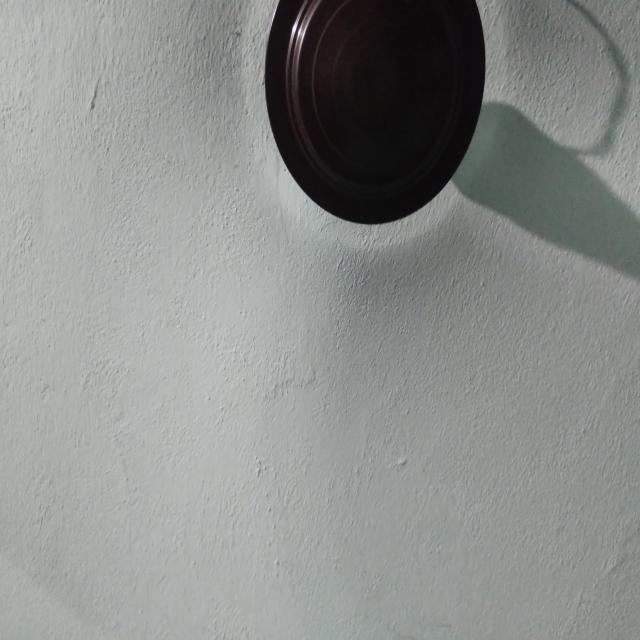fan_on: (1, 0, 640, 425)
